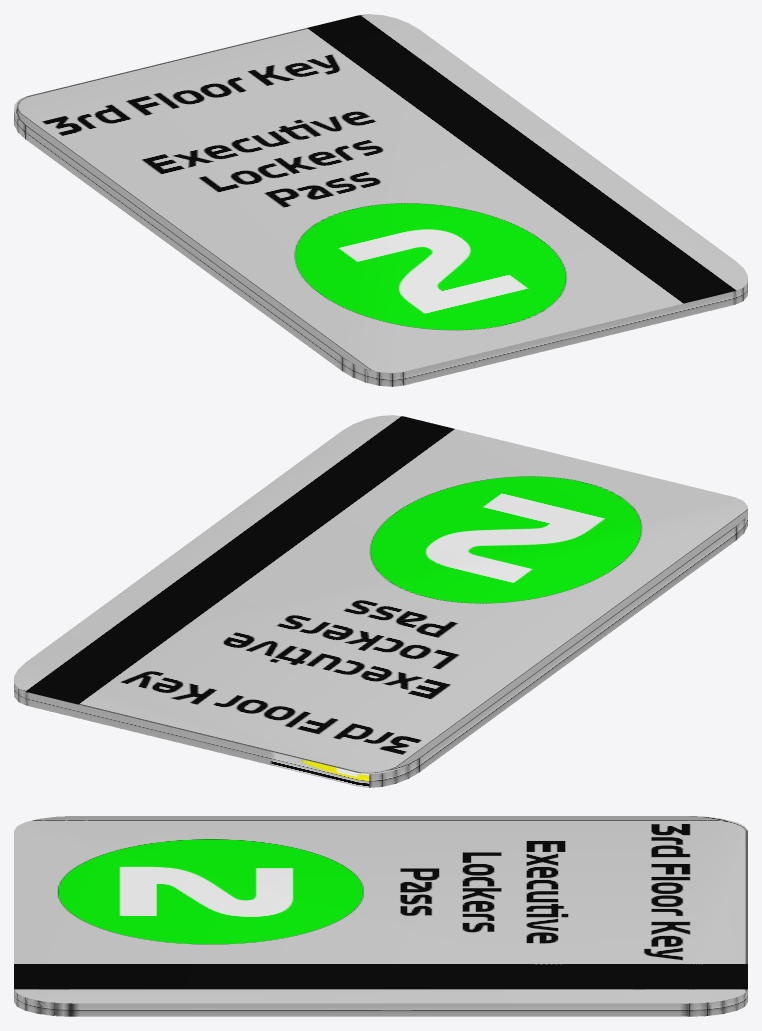
Rendered from keycard3.fbx.
3 renders of one model, top to bottom at view 1: azimuth 30°, elevation 25°; view 2: azimuth 150°, elevation 25°; view 3: azimuth 270°, elevation 25°, orthographic. The views are drawn at different scales.
Parts seen in each view (by area): view 1: Card 3; view 2: Card 3; view 3: Card 3.
Boxes of the visible parts, left/top/right/bottom form: Card 3: left=14, top=14, right=747, bottom=386; Card 3: left=14, top=415, right=747, bottom=787; Card 3: left=14, top=816, right=747, bottom=1016.
Size of the model in its own units: 13.31 by 0.4408 by 22.04.
Materials: 1 (1 with a texture image).
